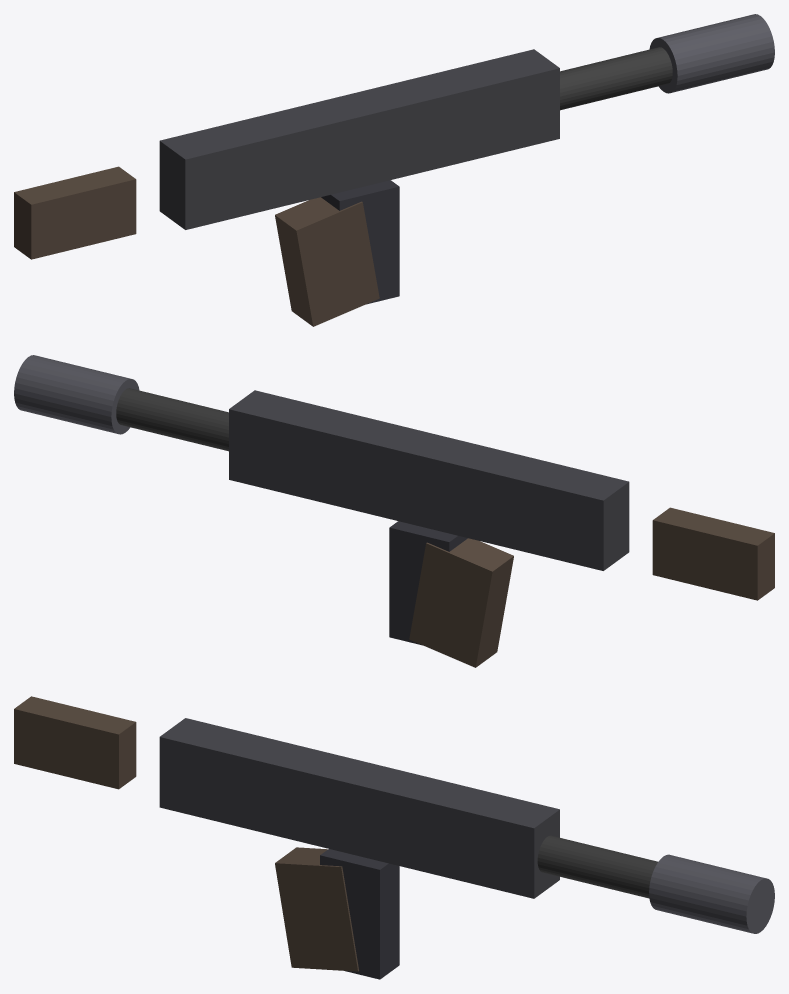
The model's file is subfusil.glb.
3 views of the same model, one above another, from view 1: azimuth 30°, elevation 25°; view 2: azimuth 150°, elevation 25°; view 3: azimuth 330°, elevation 25° (orthographic).
Visible parts, largest first — view 1: Subfusil; view 2: Subfusil; view 3: Subfusil.
Part boxes in pixels (x1,y1,x2,y2): Subfusil: [14, 14, 774, 326]; Subfusil: [14, 355, 774, 667]; Subfusil: [14, 696, 774, 979].
Bounding box in the file's own units: 0.985 × 0.2559 × 0.066.
